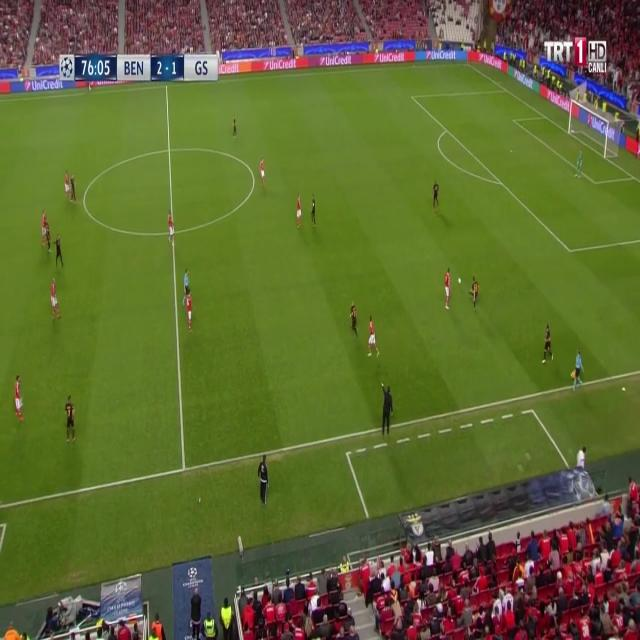Ball: (457, 274, 463, 288)
Goalkeeper: (572, 146, 585, 182)
Player: (63, 390, 78, 447), (364, 315, 381, 361), (539, 322, 556, 368), (48, 276, 62, 328), (347, 296, 360, 342), (13, 376, 25, 424), (443, 265, 453, 314), (51, 236, 65, 269), (469, 272, 480, 311), (38, 208, 48, 250), (430, 179, 441, 215), (294, 192, 304, 231), (167, 208, 175, 250), (186, 290, 194, 331), (309, 193, 317, 230), (259, 154, 267, 189), (230, 115, 239, 143), (69, 173, 77, 204), (63, 170, 70, 200)
Referee: (568, 348, 586, 398), (179, 266, 191, 308)
